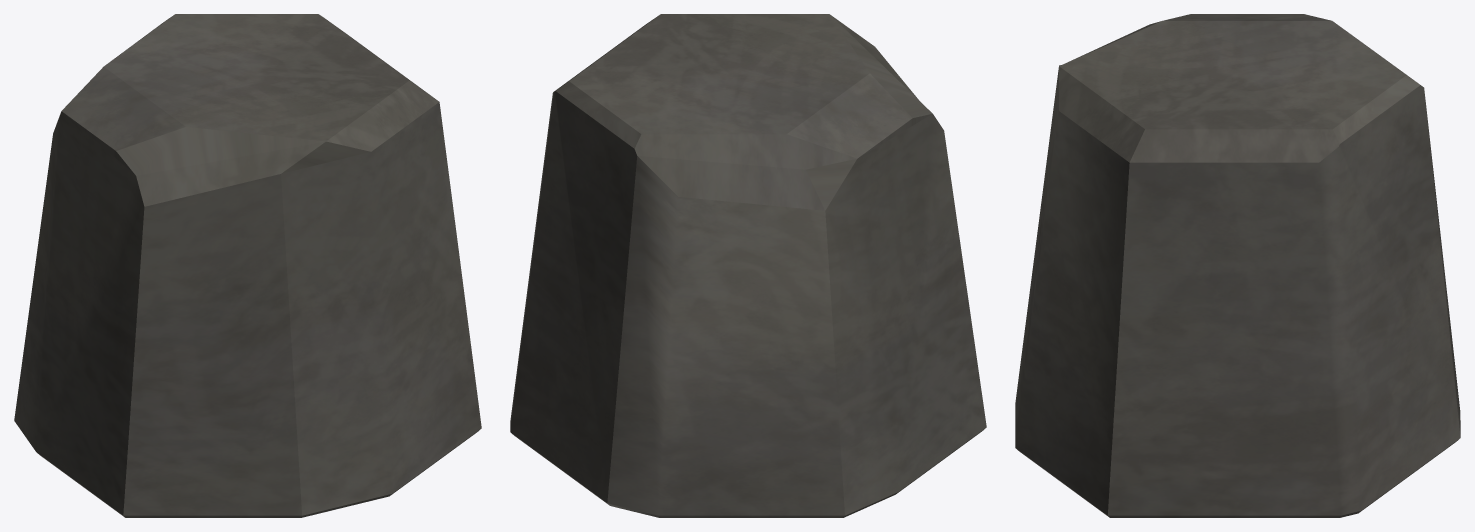
Rendered from ZachMesaRock32.fbx.
3 views of the same model, side by side, from view 1: azimuth 30°, elevation 25°; view 2: azimuth 150°, elevation 25°; view 3: azimuth 270°, elevation 25° (orthographic). The views are drawn at different scales.
Visible parts, largest first — view 1: ZachMesaRock32; view 2: ZachMesaRock32; view 3: ZachMesaRock32.
Boxes of the visible parts, x1,y1,x2,y2 form: ZachMesaRock32: [14, 14, 481, 517]; ZachMesaRock32: [510, 14, 986, 517]; ZachMesaRock32: [1015, 14, 1460, 517].
Size of the model in its own units: 2.13 by 2 by 2.22.
